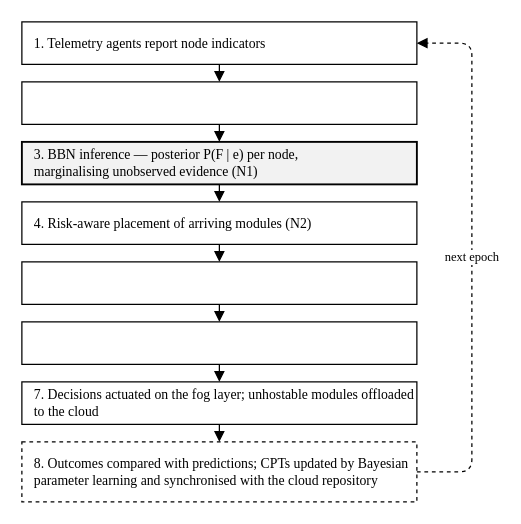
The diagram is 521 pixels wide and 524 high, and some of its shapes have lost their labels. The shapes that lost their labels are listed below. From the top down, each one's box as (x1, y1, x2, y2) in pixels, then its label:
(21, 81, 417, 124): 2. Pre-processing cleans and discretises the measurements into ordinal states
(21, 261, 417, 304): 5. Expected-loss migration of running modules (N2)
(21, 321, 417, 364): 6. Replication manager re-tiers modules within the redundancy budget (N3)
